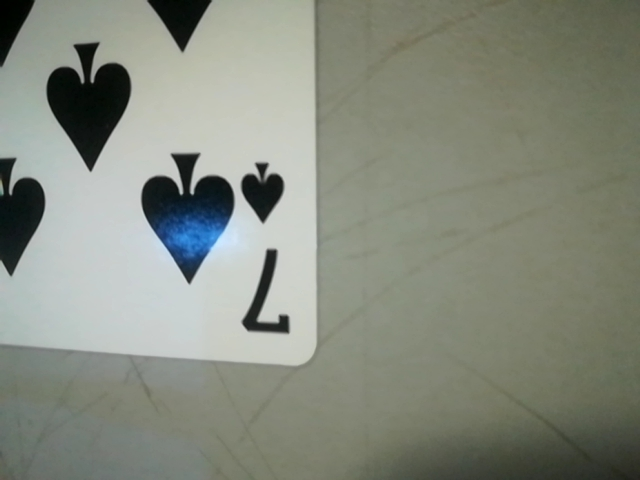ht 7: (225, 143, 310, 354)
